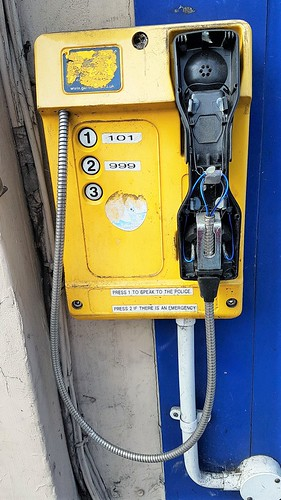trash: (21, 18, 264, 425)
